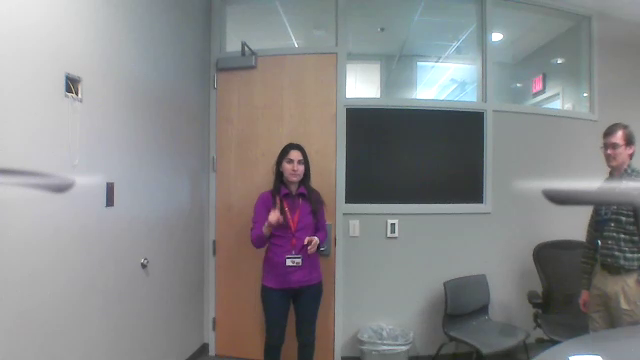up: (263, 195, 287, 231)
